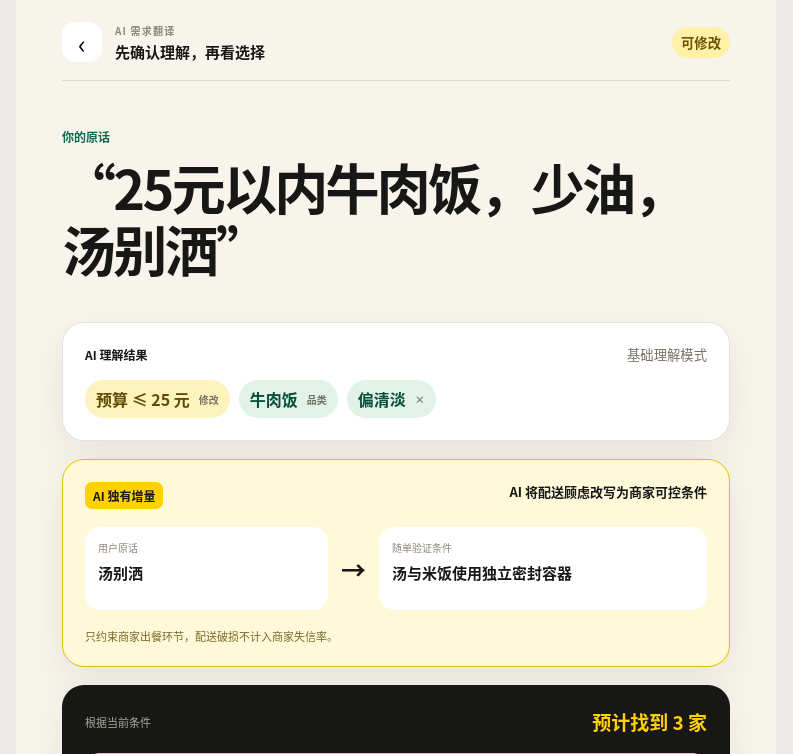
Test: AI understanding step › shows semantic translation and lets the user revise it
The width and height of the screenshot is (793, 754).
Expected: the text "汤别洒" is shown, [98,562,143,583]
Expected: the text "汤与米饭使用独立密封容器" is shown, [392,562,572,583]
Click the button with aria-label "删除偏清淡": (391, 399) [347,380,436,418]
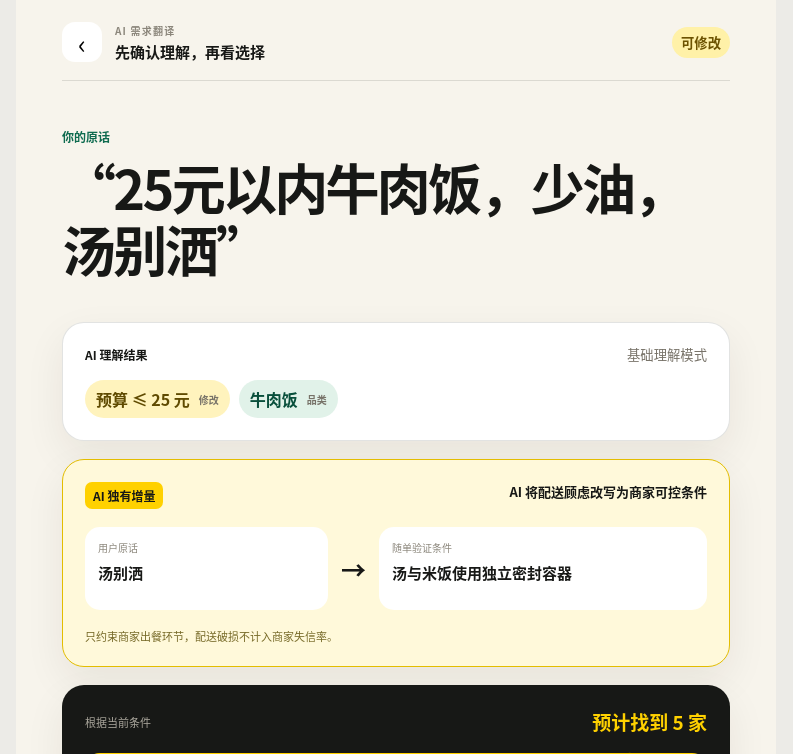
Expected: the button "偏清淡" is gone
Expected: the text "预计找到 5 家" is shown, [592,708,707,735]
